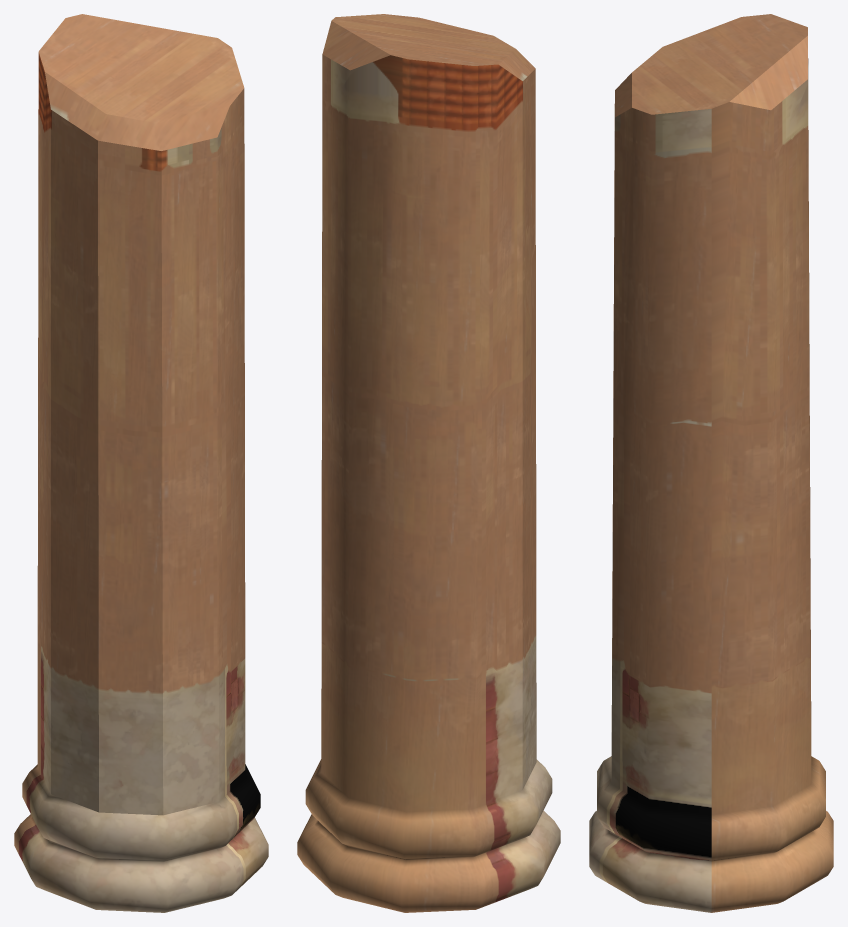
File: SM_ColumnBreak.fbx
3 renders of one model, left to right at view 1: azimuth 30°, elevation 25°; view 2: azimuth 150°, elevation 25°; view 3: azimuth 270°, elevation 25°, orthographic. The views are drawn at different scales.
Parts seen in each view (by area): view 1: pCylinder487; view 2: pCylinder487; view 3: pCylinder487.
Part boxes in pixels (box(x1,y1,x2,y2)): pCylinder487: box(14, 14, 268, 912); pCylinder487: box(297, 14, 560, 912); pCylinder487: box(589, 14, 833, 912).
Size of the model in its own units: 0.6742 by 2.39 by 0.6412.
